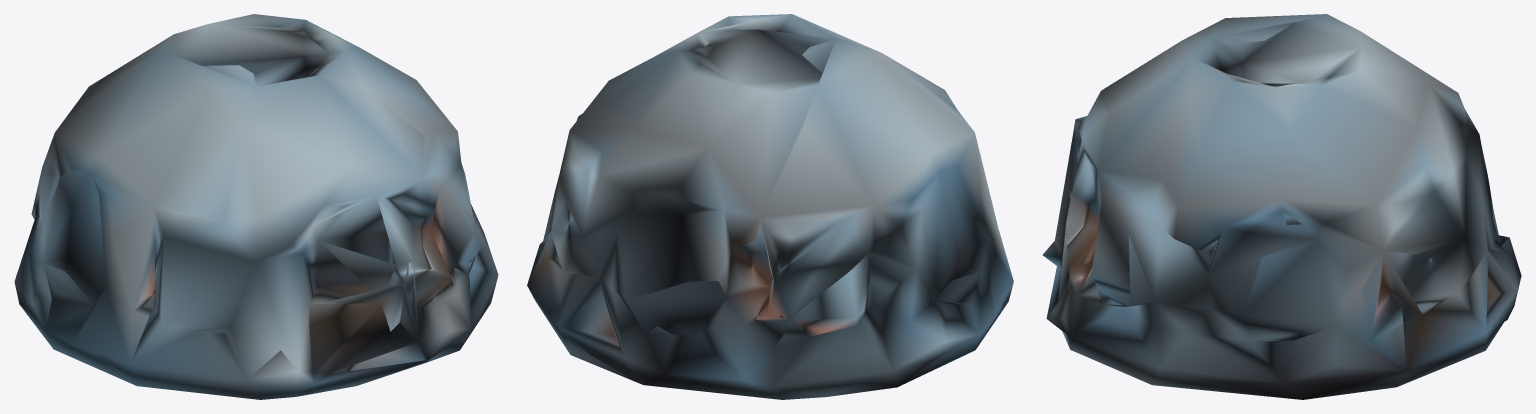
The model's file is gen3d-habitat-dome-lod1.glb.
The picture shows the model from 3 angles, left to right: view 1: azimuth 30°, elevation 25°; view 2: azimuth 150°, elevation 25°; view 3: azimuth 270°, elevation 25°; orthographic projection.
Visible parts, largest first — view 1: part_0; view 2: part_0; view 3: part_0.
Part boxes in pixels (left/top/right/bottom): part_0: left=14, top=14, right=498, bottom=399; part_0: left=527, top=14, right=1013, bottom=399; part_0: left=1042, top=14, right=1521, bottom=399.
Size of the model in its own units: 1.71 by 0.9851 by 1.68.
